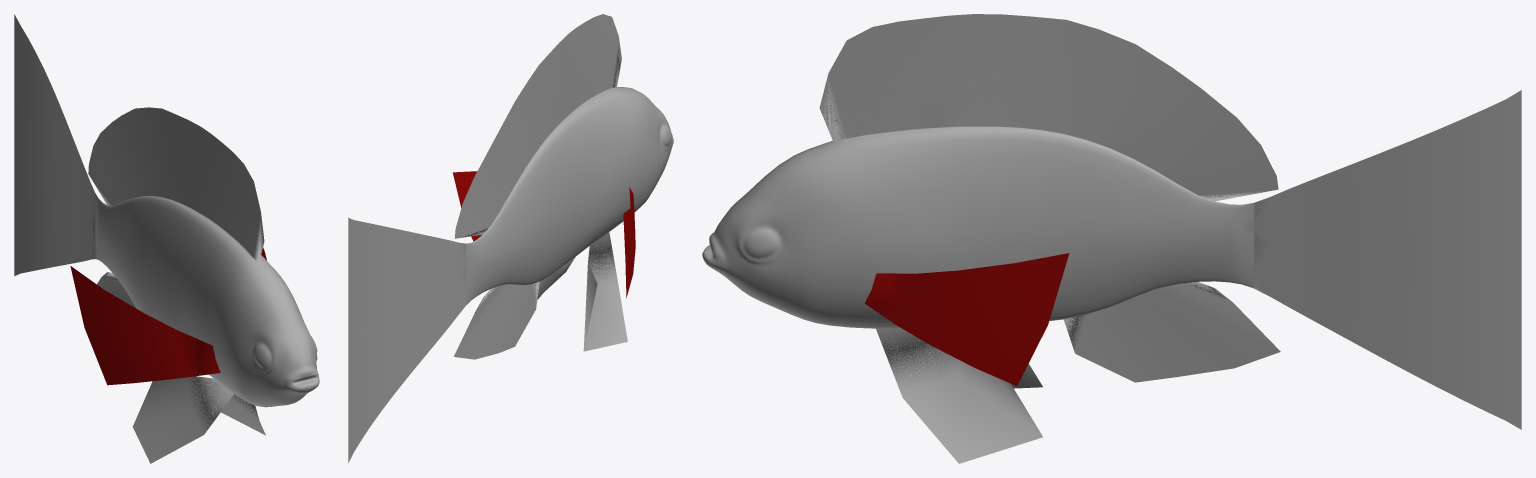
The model's file is Serranidae_B.fbx.
3 views of the same model, side by side, from view 1: azimuth 30°, elevation 25°; view 2: azimuth 150°, elevation 25°; view 3: azimuth 270°, elevation 25° (orthographic). The views are drawn at different scales.
Parts seen in each view (by area): view 1: Serranidae_B_LOD0; view 2: Serranidae_B_LOD0; view 3: Serranidae_B_LOD0.
Part boxes in pixels (x1,y1,x2,y2): Serranidae_B_LOD0: [14, 14, 319, 463]; Serranidae_B_LOD0: [348, 14, 673, 462]; Serranidae_B_LOD0: [702, 14, 1521, 463].
Size of what is drawn, in the model's own units: 0.3419 by 0.573 by 1.03.
